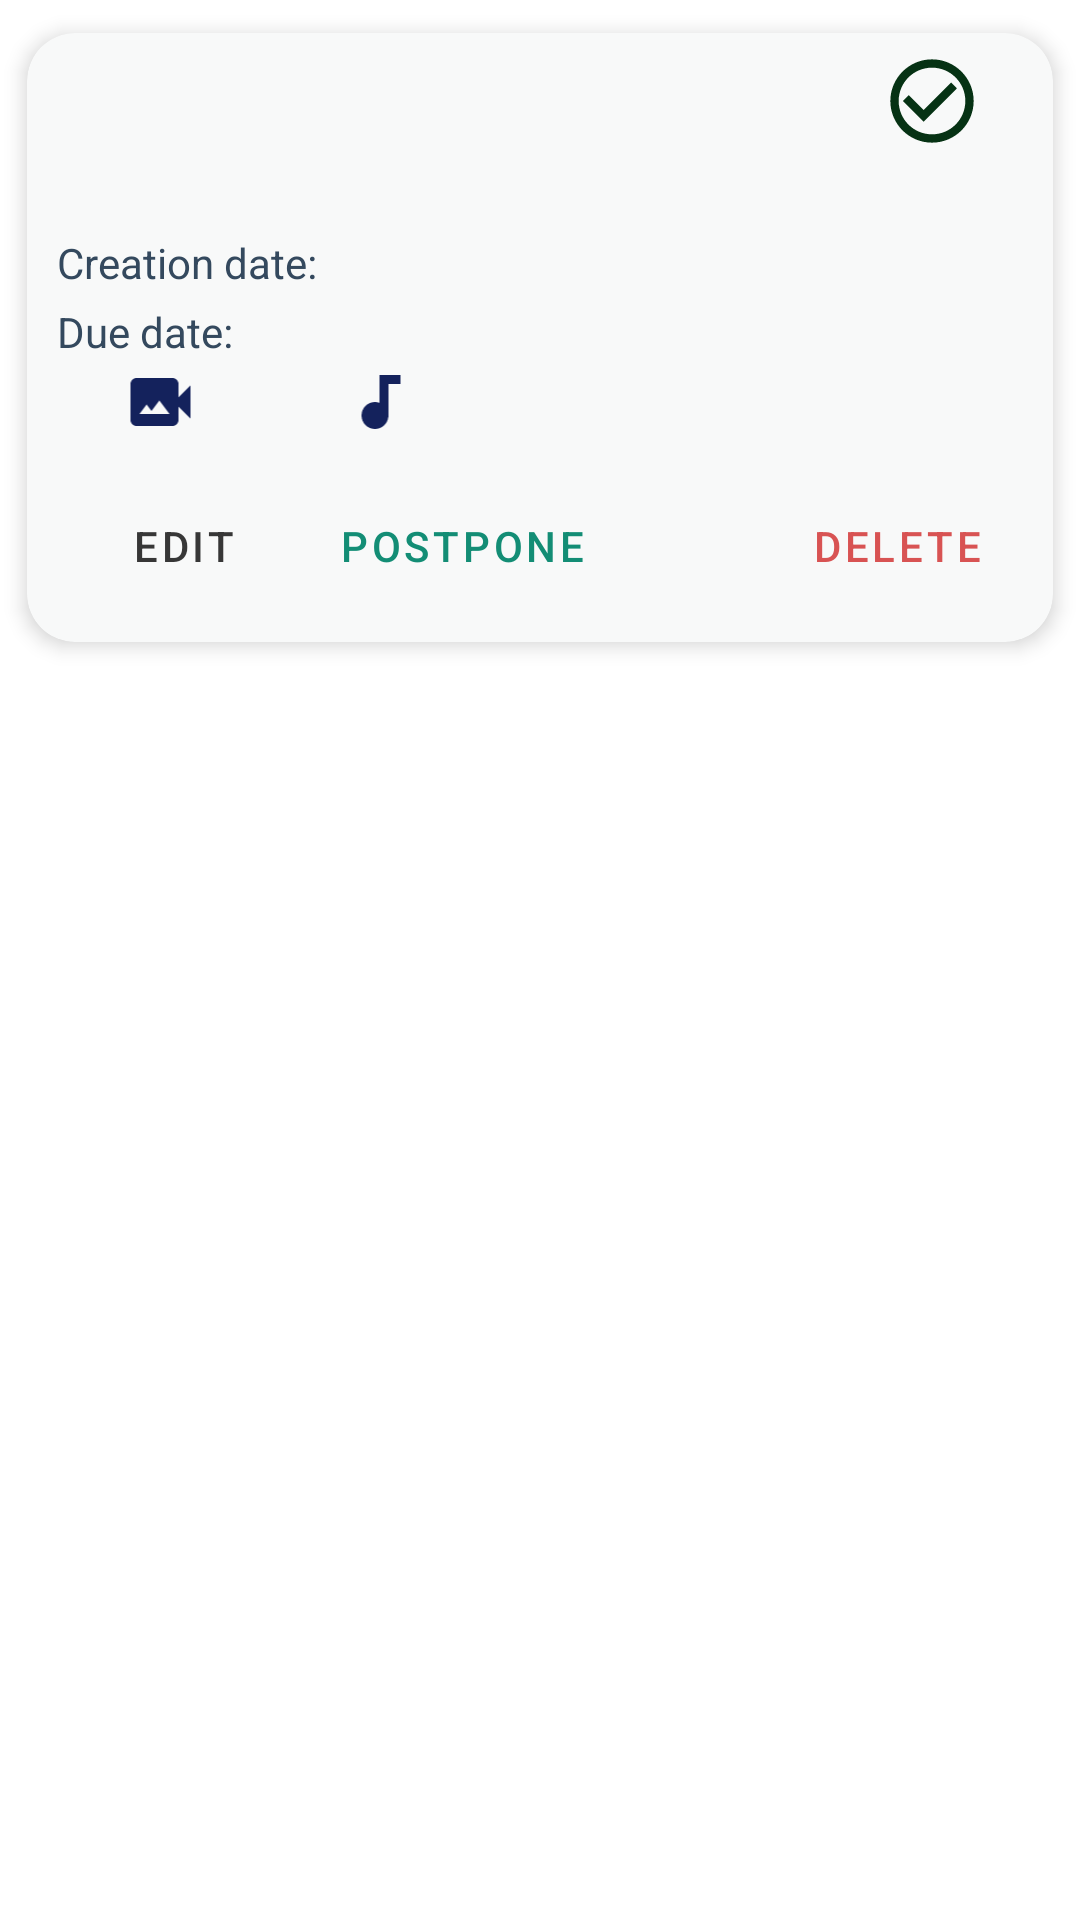

Icon bounding boxes for this 1080 x 1920 phone screenshot, format (x1, y1, x2, y2):
audio: (361, 375, 401, 429)
check circle: (890, 59, 974, 143)
video: (130, 378, 191, 426)
